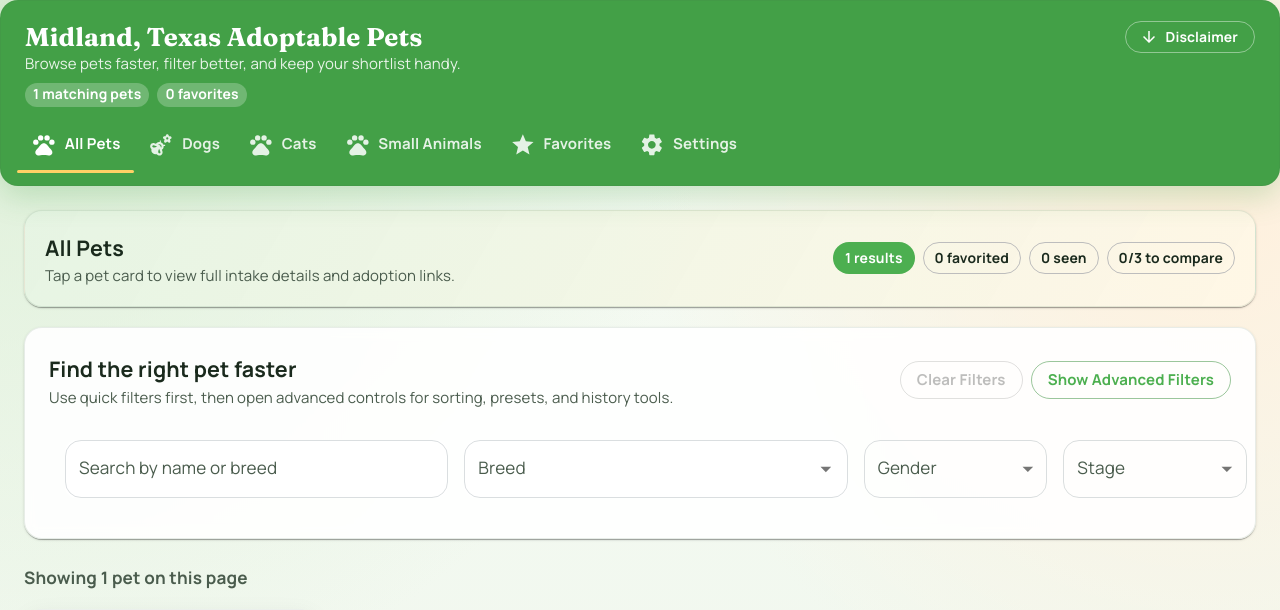
Scenario: App › switches species tabs and requests the correct endpoint
Step 1. Click the tab "Dogs" → x=184, y=145, box [134,117,234,173]
(page scrolled)
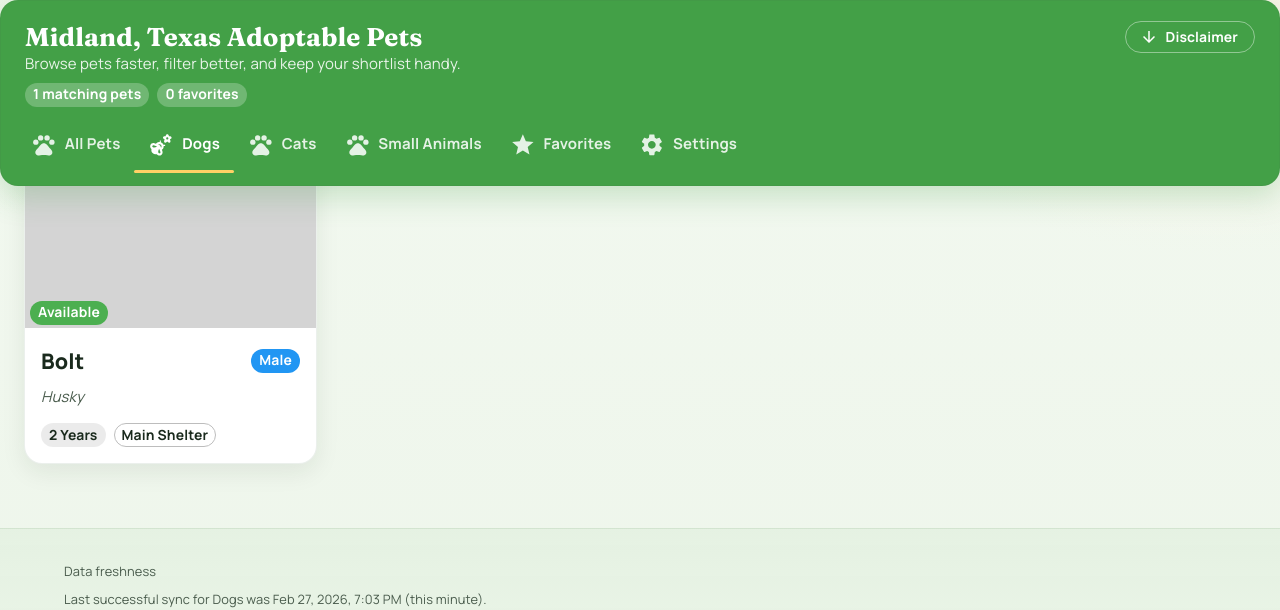
Result: the text "Bolt" is shown at [41,344,84,378]
